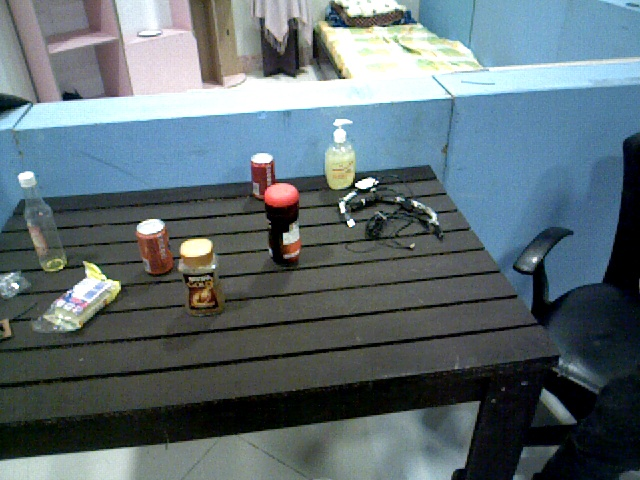coca: (251, 154, 280, 200)
coffee: (180, 239, 227, 316)
cream: (264, 183, 306, 268)
fanta: (136, 219, 172, 276)
